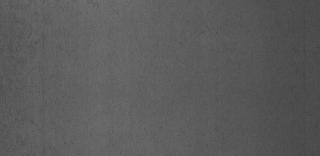silk spot: (0, 11, 64, 129)
